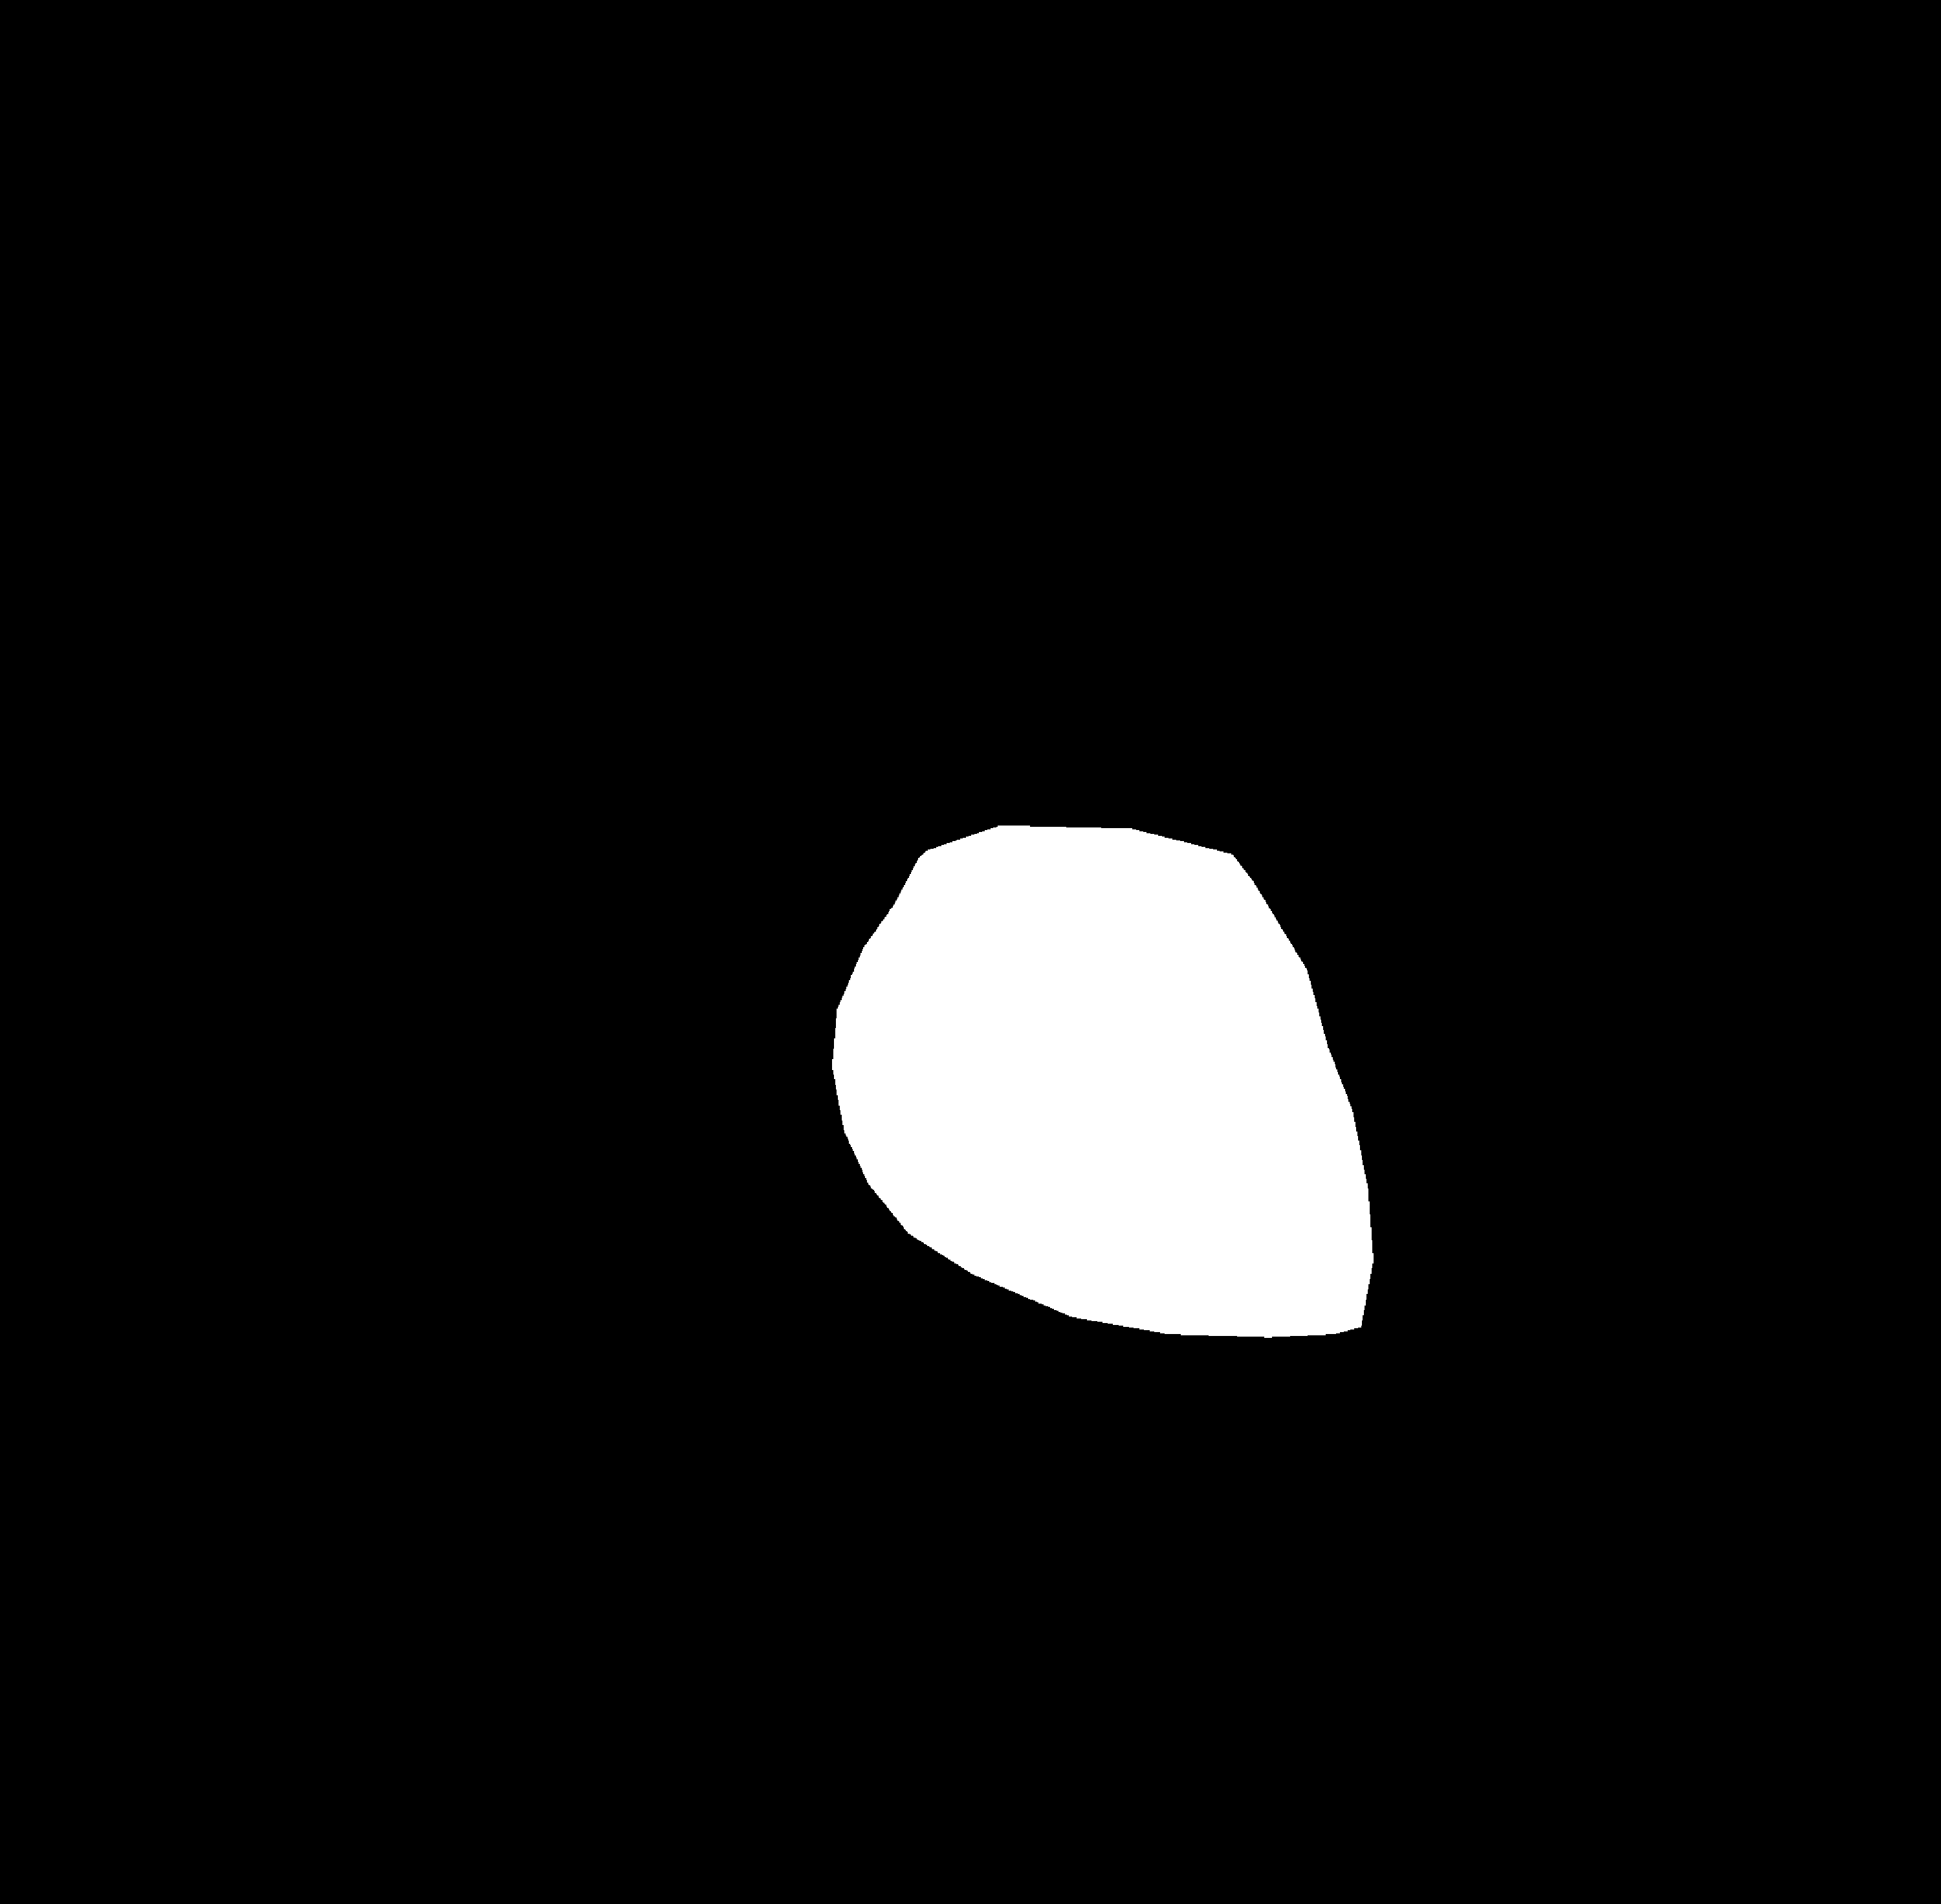heart: (832, 863, 1371, 1400)
left_lung: (342, 249, 947, 1425)
right_lung: (1093, 251, 1594, 1381)
